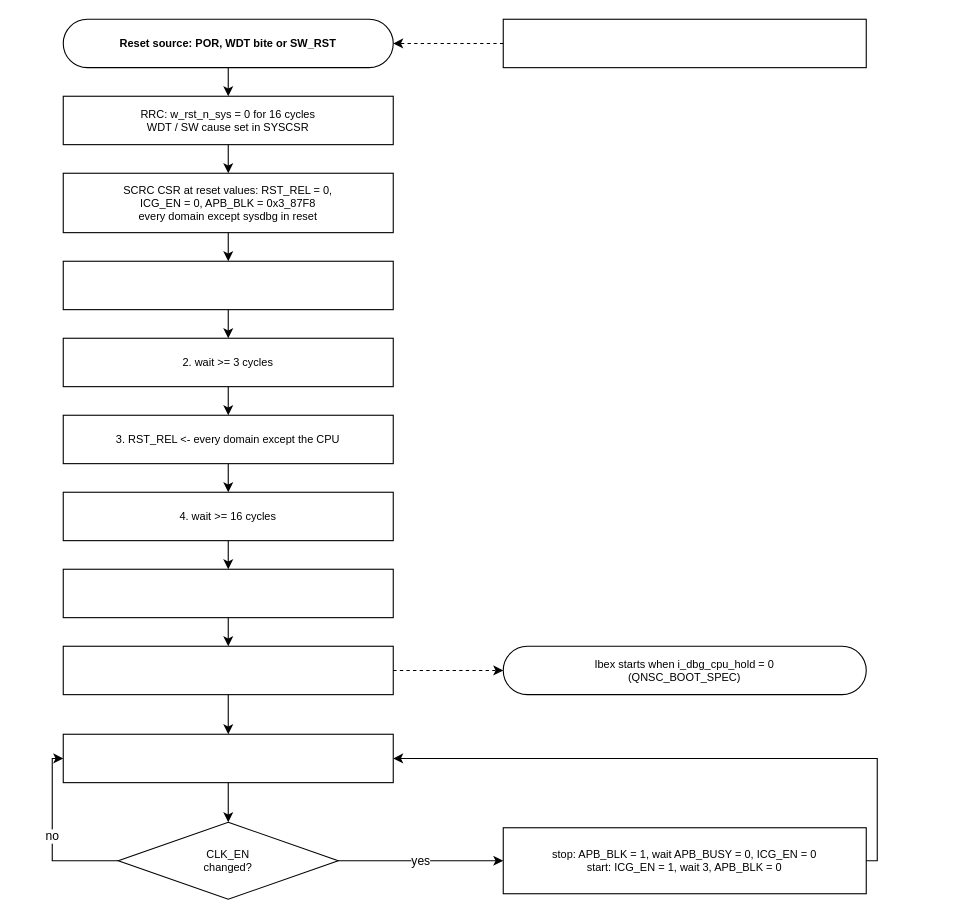
Some shapes in this 963 by 919 pixel diagram are drawn without their labels. Here are the shapes that lost their labels. From the top down, the centre of each, then its label:
At point (684, 43): "WDT bite or Ibex writes SW_RST, at any time".
At point (227, 285): "1. ICG_EN <- CLK_EN (all clocks but timer_1)".
At point (227, 593): "5. APB_BLK <- NOT CLK_EN (guards open)".
At point (227, 670): "6. RST_REL[CPU] <- 1 (CPU released last)".
At point (227, 758): "IDLE: read CLK_EN".
